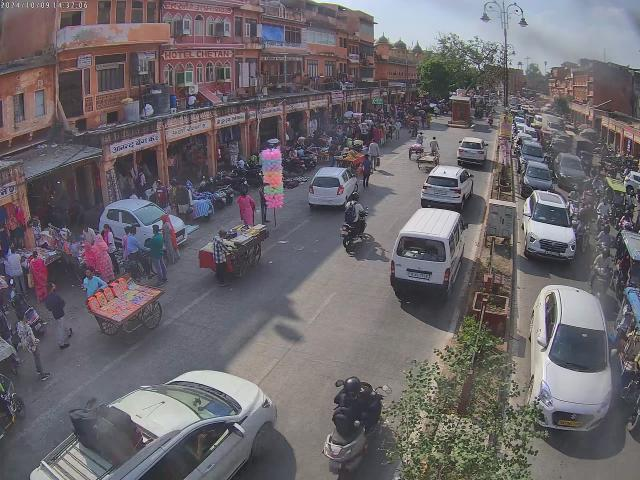bus: (389, 208, 467, 300)
car: (17, 374, 280, 480), (528, 284, 612, 434), (521, 188, 578, 264), (419, 165, 474, 211), (306, 166, 359, 211), (520, 158, 556, 192), (456, 136, 488, 166)
helmet: (344, 376, 362, 399), (351, 193, 360, 200)
license_plate: (559, 420, 582, 428), (409, 272, 430, 280), (545, 251, 561, 257), (433, 190, 448, 196), (320, 199, 332, 204)
motorbike-rider: (338, 195, 368, 254)
person: (16, 312, 49, 382), (45, 283, 74, 350), (27, 251, 49, 307), (160, 211, 180, 267), (6, 246, 27, 298), (92, 236, 116, 281), (150, 227, 168, 284), (236, 191, 256, 226)
rickshow: (426, 136, 442, 164), (408, 137, 424, 161)
scooty: (4, 279, 42, 333)
scooty-rider: (324, 374, 386, 476), (590, 246, 616, 290)
vendor: (92, 285, 164, 339), (198, 227, 263, 282)
